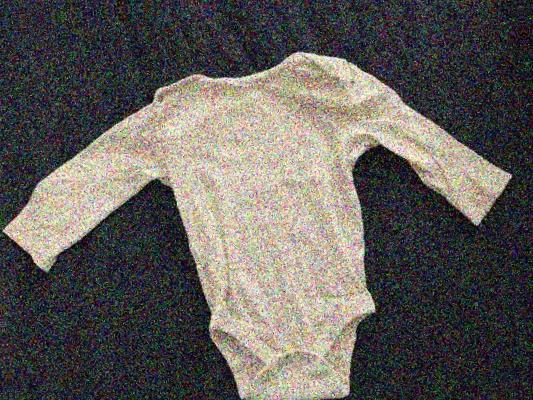Body: (0, 2, 533, 400), (0, 61, 10, 400), (24, 398, 533, 400)
